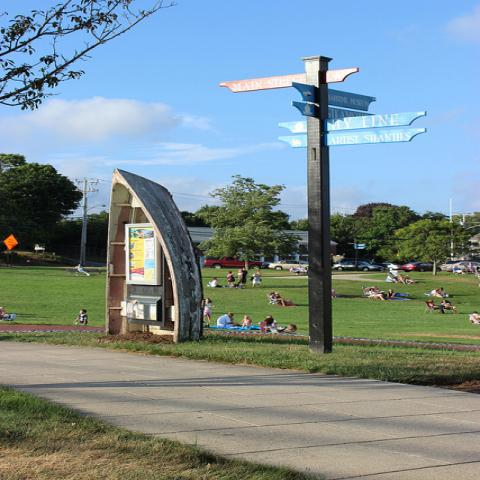car: (204, 255, 267, 269), (332, 261, 383, 272), (269, 259, 308, 272), (403, 262, 441, 272), (446, 261, 479, 272), (380, 262, 402, 270)
